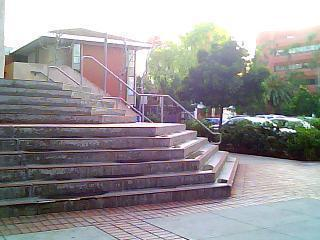Escaleras: (4, 121, 243, 207), (6, 76, 147, 121)
